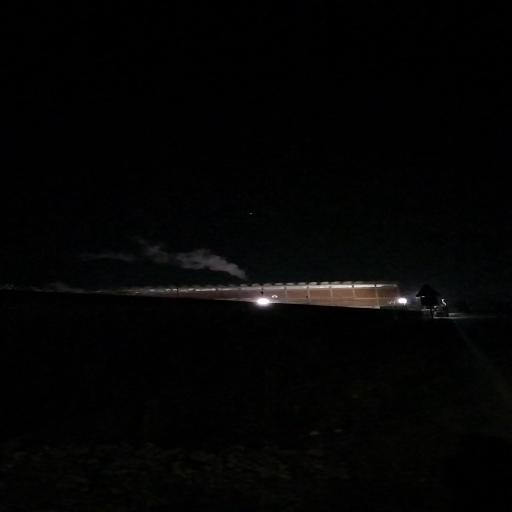leakage: (98, 226, 267, 286)
